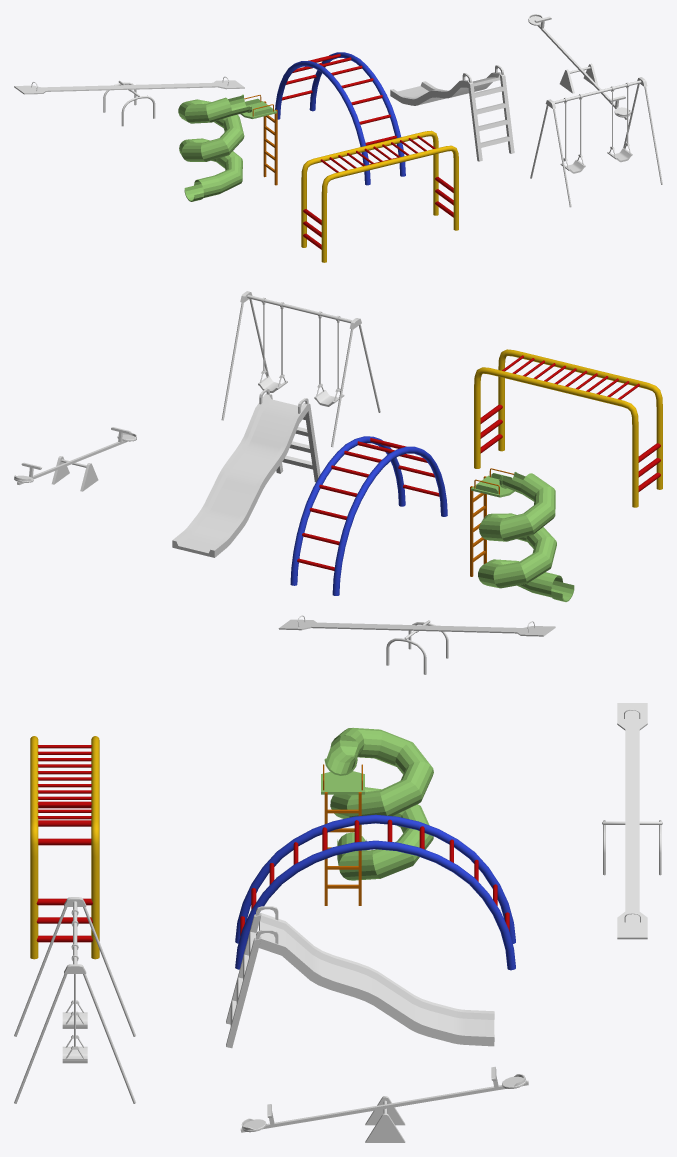
File: playground_rides.fbx
The picture shows the model from 3 angles, top to bottom: view 1: azimuth 30°, elevation 25°; view 2: azimuth 150°, elevation 25°; view 3: azimuth 270°, elevation 25°; orthographic projection. The views are drawn at different scales.
Parts seen in each view (by area): view 1: Circle, Cylinder.001, Cylinder.003, Cube.010, Cube.009, Cube.008, Cylinder.004, Cylinder.007, Cylinder.009, Cube.001, Cylinder.002, Cube.007 (+4 smaller); view 2: Cube.009, Circle, Cylinder.001, Cylinder.003, Cube.008, Cylinder.004, Cube.010, Cylinder.007, Cylinder.009, Cylinder.002, Cube.001, Cylinder.008 (+3 smaller); view 3: Circle, Cube.009, Cylinder.003, Cube.008, Cylinder.001, Cylinder.009, Cylinder.002, Cylinder.007, Cube.010, Cube.007, Cylinder.004, Cube.001 (+3 smaller).
Boxes of the visible parts, bbox=[...] form: Circle: bbox=[178, 94, 252, 201]; Cylinder.001: bbox=[301, 130, 458, 262]; Cylinder.003: bbox=[275, 52, 405, 185]; Cube.010: bbox=[462, 65, 514, 161]; Cube.009: bbox=[390, 72, 500, 105]; Cube.008: bbox=[14, 80, 244, 94]; Cylinder.004: bbox=[282, 54, 397, 164]; Cylinder.007: bbox=[530, 83, 662, 207]; Cylinder.009: bbox=[320, 135, 435, 172]; Cube.001: bbox=[263, 101, 277, 185]; Cylinder.002: bbox=[303, 177, 453, 249]; Cube.007: bbox=[534, 16, 626, 119]; Cube.009: bbox=[172, 394, 308, 557]; Circle: bbox=[478, 472, 574, 601]; Cylinder.001: bbox=[474, 349, 662, 507]; Cylinder.003: bbox=[290, 436, 447, 595]; Cube.008: bbox=[278, 619, 555, 636]; Cylinder.004: bbox=[297, 438, 439, 570]; Cube.010: bbox=[259, 388, 320, 482]; Cylinder.007: bbox=[221, 298, 380, 447]; Cylinder.009: bbox=[502, 355, 639, 399]; Cylinder.002: bbox=[480, 404, 660, 491]; Cube.001: bbox=[470, 476, 486, 576]; Cylinder.008: bbox=[260, 297, 342, 400]; Circle: bbox=[324, 727, 433, 880]; Cube.009: bbox=[259, 913, 494, 1046]; Cylinder.003: bbox=[235, 814, 515, 970]; Cube.008: bbox=[617, 703, 647, 939]; Cylinder.001: bbox=[30, 736, 99, 959]; Cylinder.009: bbox=[37, 745, 91, 819]; Cylinder.002: bbox=[36, 801, 92, 942]; Cylinder.007: bbox=[14, 907, 135, 1103]; Cube.010: bbox=[226, 906, 278, 1048]; Cube.007: bbox=[240, 1066, 528, 1132]; Cylinder.004: bbox=[240, 819, 509, 935]; Cube.001: bbox=[324, 792, 361, 905].
Size of the model in its own units: 838 by 166 by 637.
